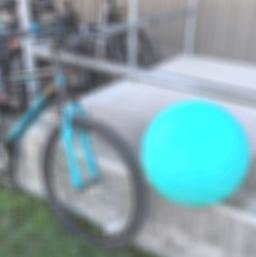algae: (138, 96, 252, 206)
